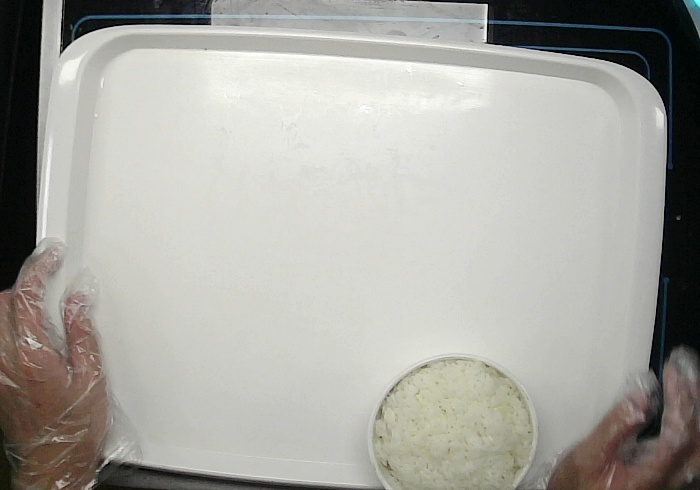HZYJPL-Fan_Wan: (367, 353, 540, 488)
